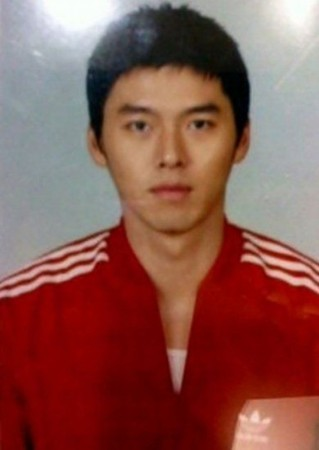unmask: (103, 78, 234, 222)
